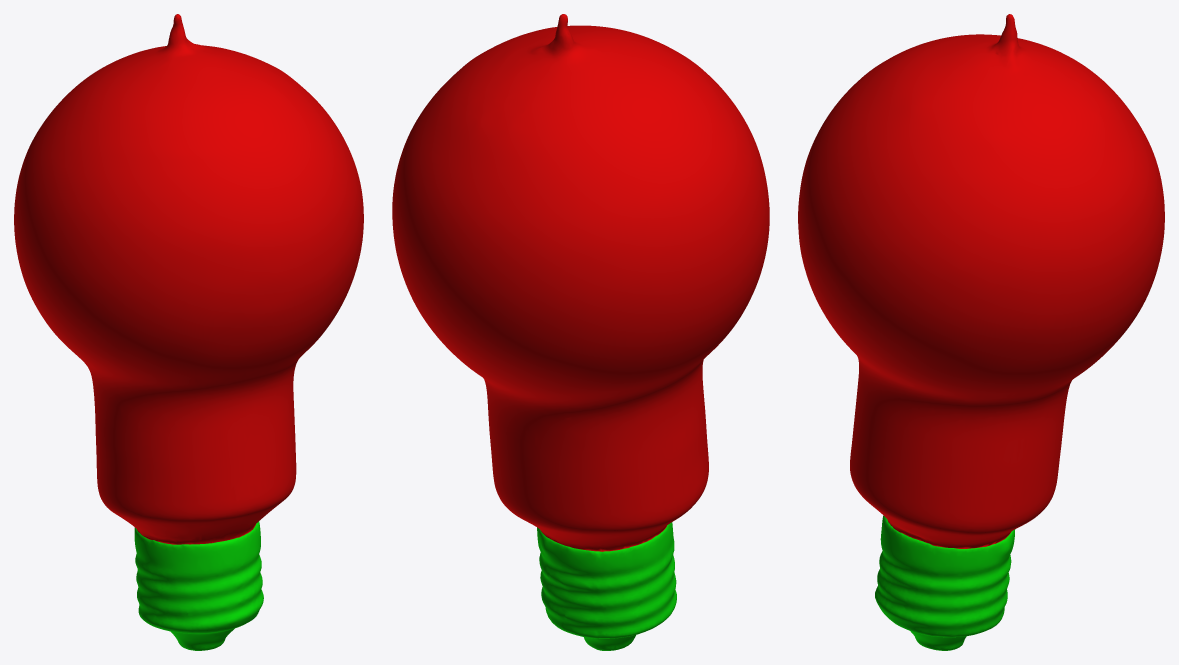
The model's file is materialowanie.fbx.
The picture shows the model from 3 angles, left to right: view 1: azimuth 30°, elevation 25°; view 2: azimuth 150°, elevation 25°; view 3: azimuth 270°, elevation 25°; orthographic projection. The views are drawn at different scales.
Visible parts, largest first — view 1: EXPORT.BAŃKA; view 2: EXPORT.BAŃKA; view 3: EXPORT.BAŃKA.
Boxes of the visible parts, x1,y1,x2,y2 form: EXPORT.BAŃKA: [14, 14, 363, 650]; EXPORT.BAŃKA: [392, 14, 769, 650]; EXPORT.BAŃKA: [798, 14, 1164, 650].
Bounding box in the file's own units: 6.95 × 13.28 × 6.95.
